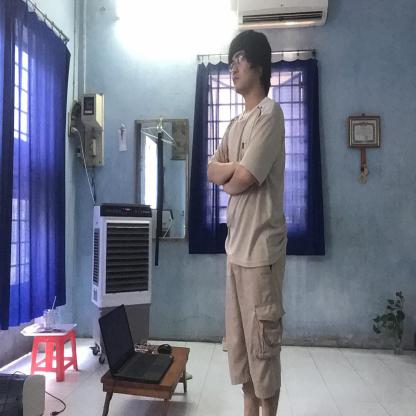person: (206, 20, 294, 409)
